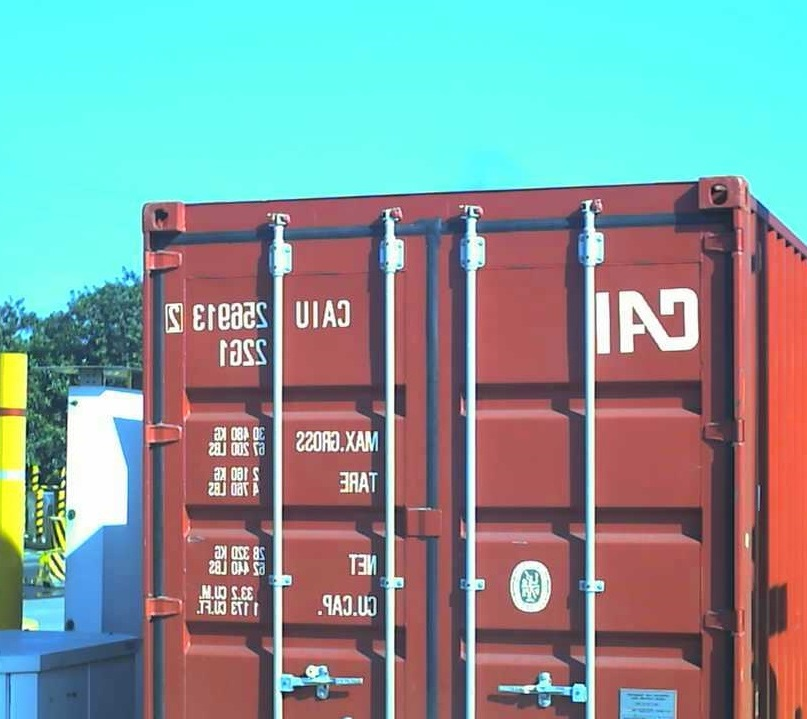container_door: (139, 175, 744, 719)
